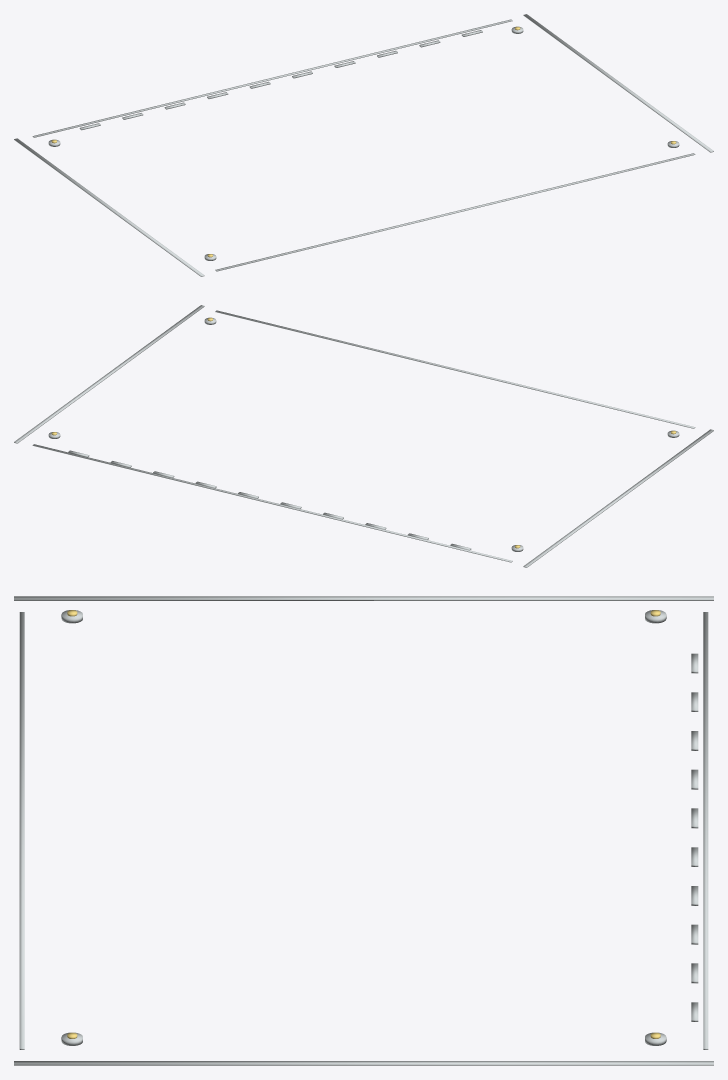
The model's file is 13_L95_SilkscreenMountsAndTestFiducials.fbx.
3 renders of one model, top to bottom at view 1: azimuth 30°, elevation 25°; view 2: azimuth 150°, elevation 25°; view 3: azimuth 270°, elevation 25°, orthographic. The views are drawn at different scales.
Visible parts, largest first — view 1: L95_SilkscreenMountsAndTestFi_Part_0000; view 2: L95_SilkscreenMountsAndTestFi_Part_0000; view 3: L95_SilkscreenMountsAndTestFi_Part_0000.
Part boxes in pixels (x1,y1,x2,y2): L95_SilkscreenMountsAndTestFi_Part_0000: [14, 14, 713, 276]; L95_SilkscreenMountsAndTestFi_Part_0000: [14, 305, 713, 567]; L95_SilkscreenMountsAndTestFi_Part_0000: [14, 596, 713, 1065].
Size of the model in its own units: 1.33 by 0.0135 by 0.84.
